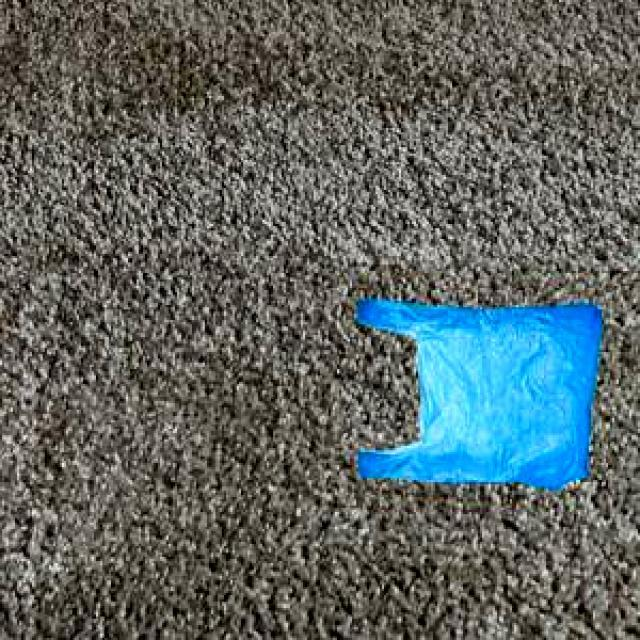Plastic_Bag: (356, 296, 598, 486)
